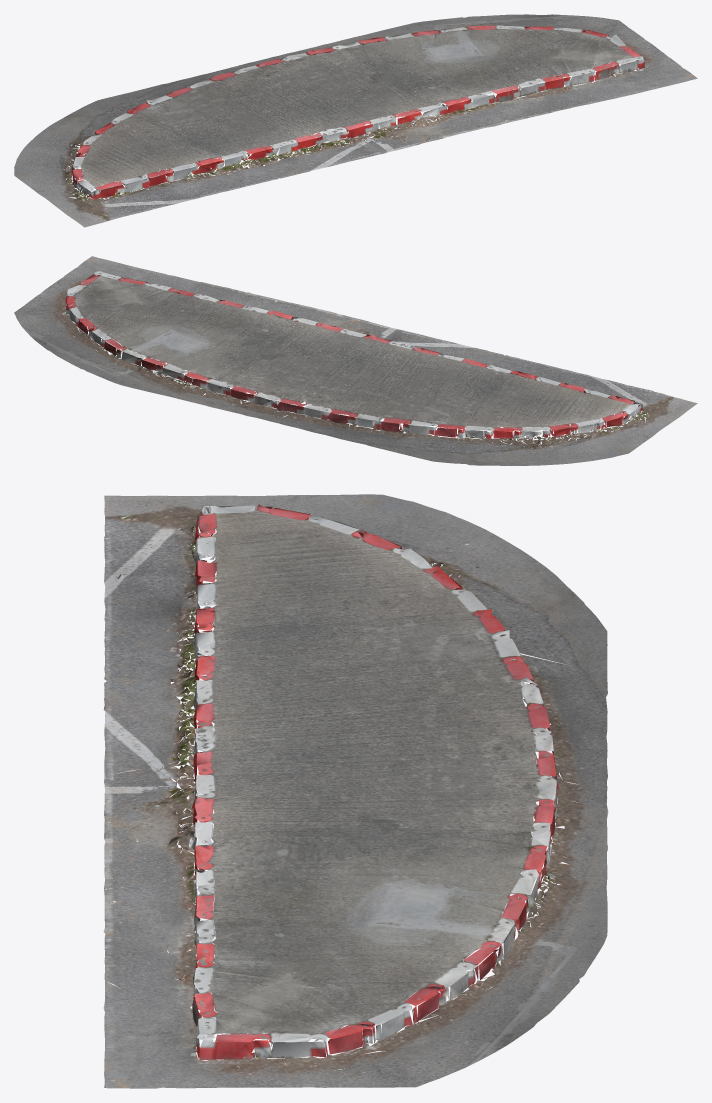
File: curb_3d_scan.glb
The picture shows the model from 3 angles, top to bottom: view 1: azimuth 30°, elevation 25°; view 2: azimuth 150°, elevation 25°; view 3: azimuth 270°, elevation 25°; orthographic projection. The views are drawn at different scales.
Parts seen in each view (by area): view 1: curb_3d_scan.001; view 2: curb_3d_scan.001; view 3: curb_3d_scan.001.
Boxes of the visible parts, x1,y1,x2,y2 form: curb_3d_scan.001: (14,14,697,227); curb_3d_scan.001: (14,256,697,465); curb_3d_scan.001: (103,494,608,1088).
Bounding box in the file's own units: 10.86 × 0.2302 × 3.92.
Materials: 1 (1 with a texture image).
